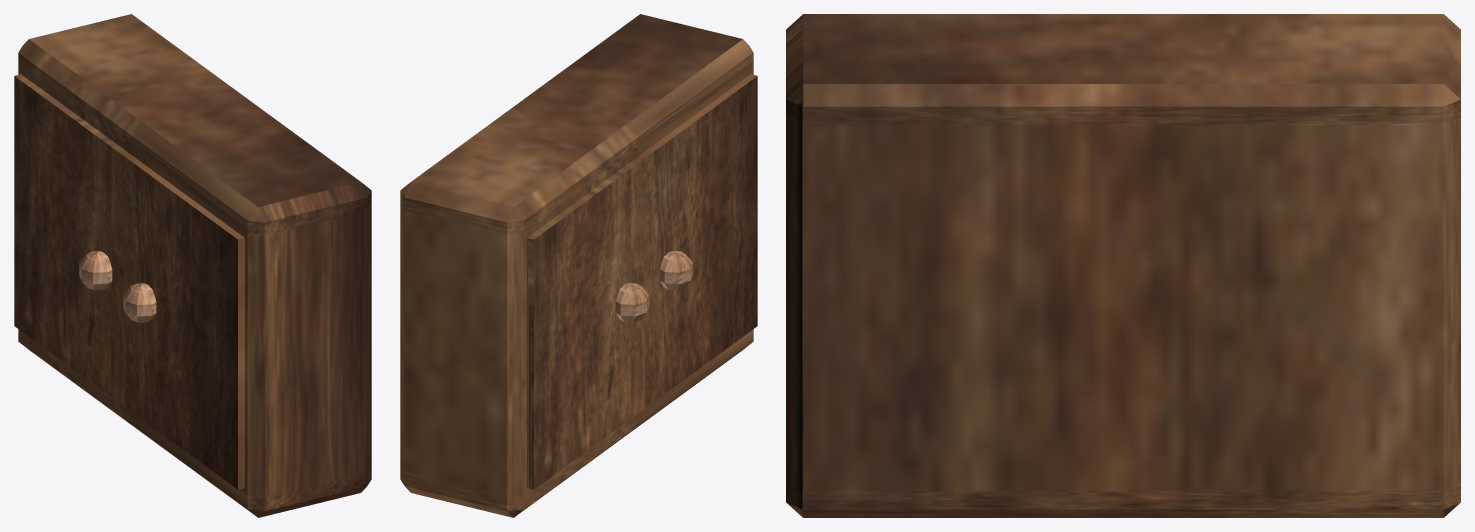
File: armario_cozinha2.fbx
3 views of the same model, side by side, from view 1: azimuth 30°, elevation 25°; view 2: azimuth 150°, elevation 25°; view 3: azimuth 270°, elevation 25° (orthographic). The views are drawn at different scales.
Visible parts, largest first — view 1: armario_fechado; view 2: armario_fechado; view 3: armario_fechado.
Part boxes in pixels (x1,y1,x2,y2): armario_fechado: [14, 14, 371, 517]; armario_fechado: [400, 14, 757, 517]; armario_fechado: [786, 14, 1460, 517].
Size of the model in its own units: 98.66 by 190 by 268.
Materials: 1 (1 with a texture image).
